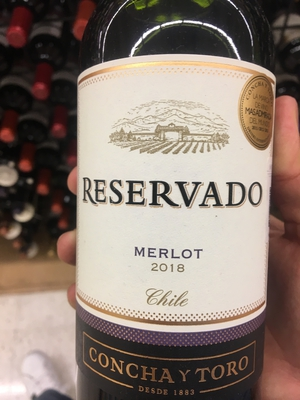reservado merlot: (72, 23, 278, 400)
